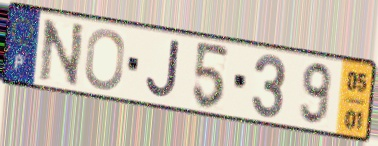3: (249, 52, 287, 120)
5: (190, 39, 232, 113)
9: (297, 60, 335, 128)
J: (143, 38, 181, 101)
N: (37, 17, 87, 90)
O: (82, 27, 127, 92)
